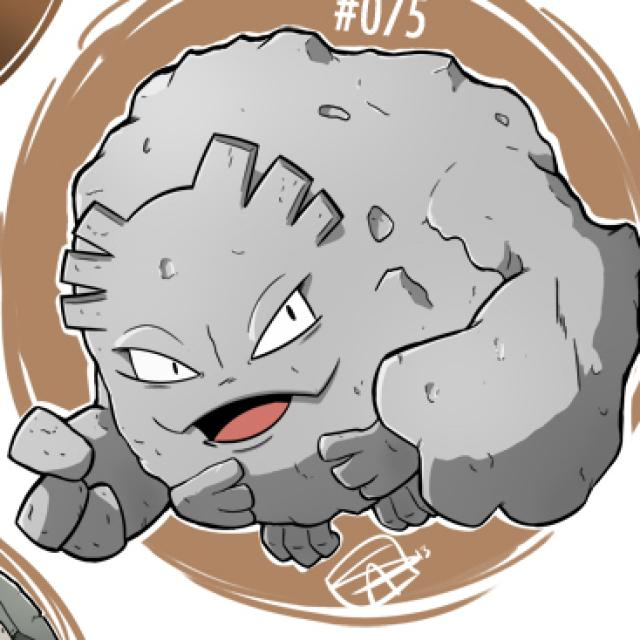Graveler: (5, 31, 640, 581)
